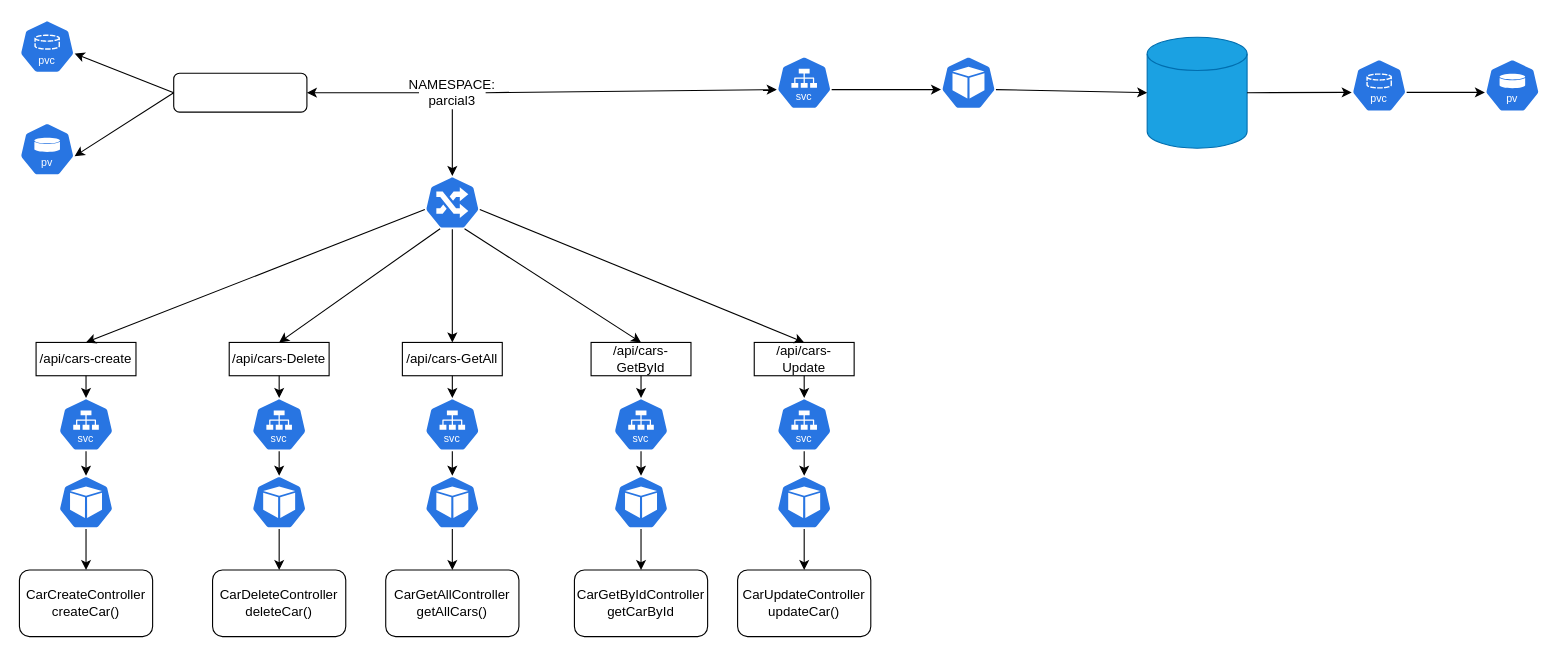
Some shapes in this 1560 by 656 pixel diagram are drawn without their labels. Here are the shapes that lost their labels. From the top down, the centre of each, then its label:
At [240,92]: "Persistent Storage".
At [1196,92]: "MariaDB mariadb-cat: 3306".
